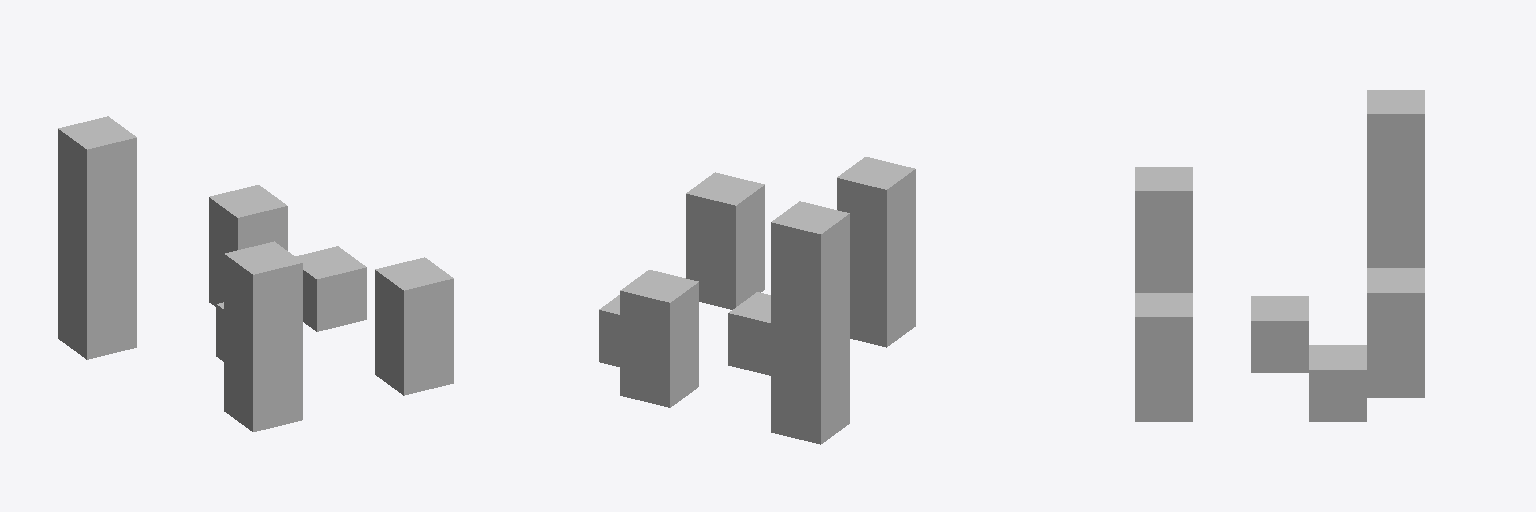
File: lightGrass2-0.obj
The picture shows the model from 3 angles: view 1: azimuth 30°, elevation 25°; view 2: azimuth 150°, elevation 25°; view 3: azimuth 270°, elevation 25°; orthographic projection.
Visible parts, largest first — view 1: object 1; view 2: object 1; view 3: object 1.
Part boxes in pixels (x1,y1,x2,y2): object 1: (58,116,453,431); object 1: (599,157,915,444); object 1: (1135,90,1424,421).
Bounding box in the file's own units: 0.5 × 0.4 × 0.5.